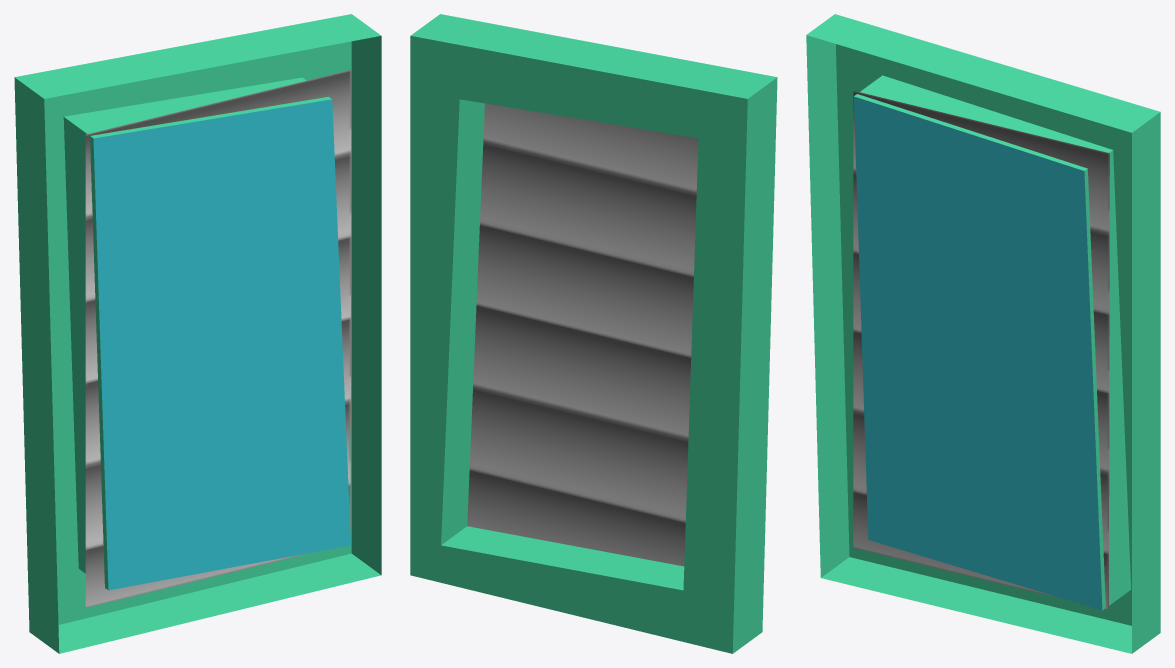
The model's file is WindowTall.fbx.
The picture shows the model from 3 angles, left to right: view 1: azimuth 30°, elevation 25°; view 2: azimuth 150°, elevation 25°; view 3: azimuth 330°, elevation 25°; orthographic projection. The views are drawn at different scales.
Parts seen in each view (by area): view 1: WindowTall, Blind.003; view 2: WindowTall, Blind.003; view 3: WindowTall, Blind.003.
Part boxes in pixels (bbox=[...]): WindowTall: bbox=[14, 14, 381, 653]; Blind.003: bbox=[85, 69, 351, 607]; WindowTall: bbox=[410, 14, 777, 653]; Blind.003: bbox=[467, 103, 698, 566]; WindowTall: bbox=[806, 14, 1160, 653]; Blind.003: bbox=[853, 90, 1109, 609].
Size of the model in its own units: 98.12 by 155 by 15.
